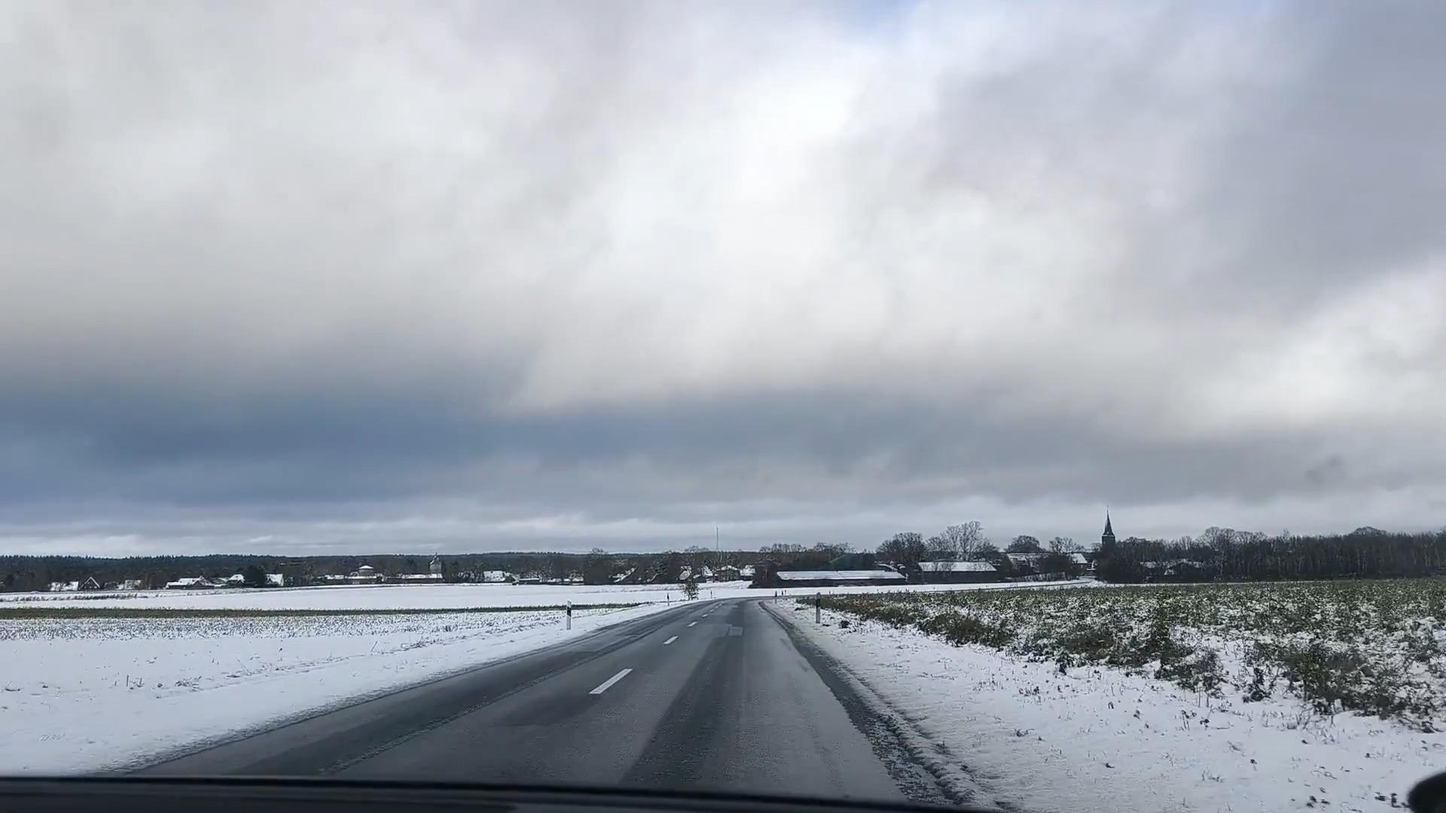Snow: (763, 586, 1446, 813), (0, 590, 685, 775)
ice: (117, 595, 950, 802)
